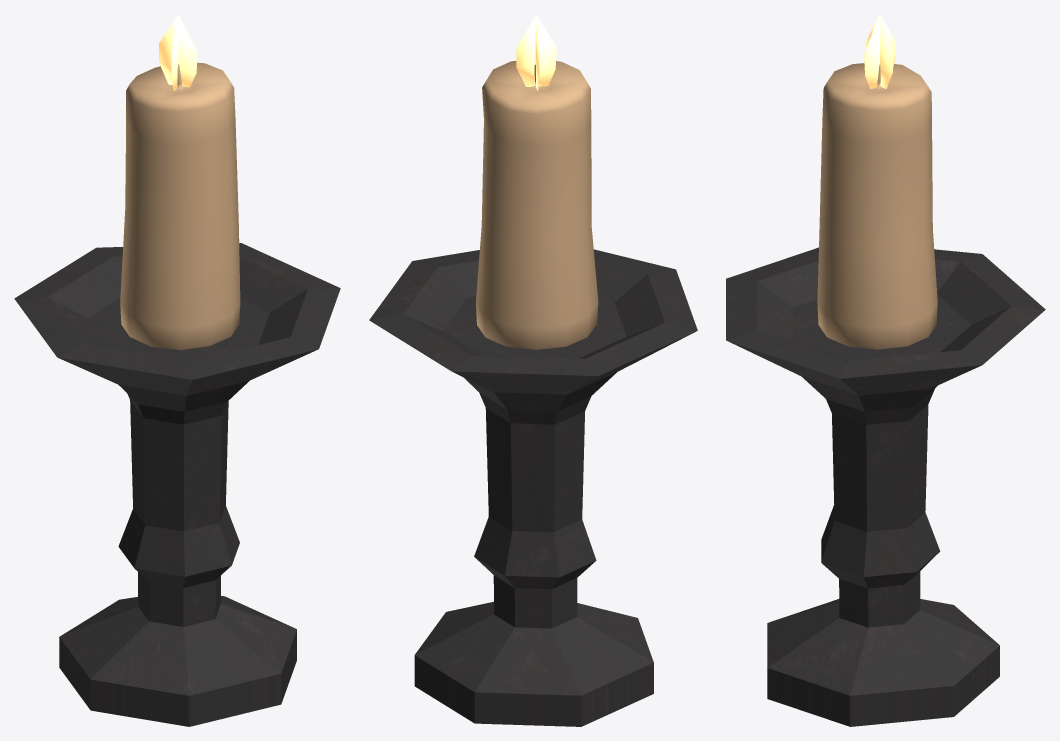
Rendered from candle.glb.
3 views of the same model, side by side, from view 1: azimuth 30°, elevation 25°; view 2: azimuth 150°, elevation 25°; view 3: azimuth 270°, elevation 25° (orthographic).
Visible parts, largest first — view 1: candleholder, candlereal, cangleflame.001; view 2: candleholder, candlereal, cangleflame.001; view 3: candleholder, candlereal, cangleflame.001.
Part boxes in pixels (box(x1,y1,x2,y2)): candleholder: box(14, 243, 340, 726); candlereal: box(120, 62, 240, 349); cangleflame.001: box(159, 14, 197, 90); candleholder: box(369, 249, 697, 726); candlereal: box(476, 61, 598, 349); cangleflame.001: box(516, 14, 556, 90); candleholder: box(726, 247, 1045, 726); candlereal: box(817, 63, 937, 349); cangleflame.001: box(864, 14, 895, 88).
Bounding box in the file's own units: 0.1045 × 0.2325 × 0.1018.
Materials: 3 (2 with a texture image).
